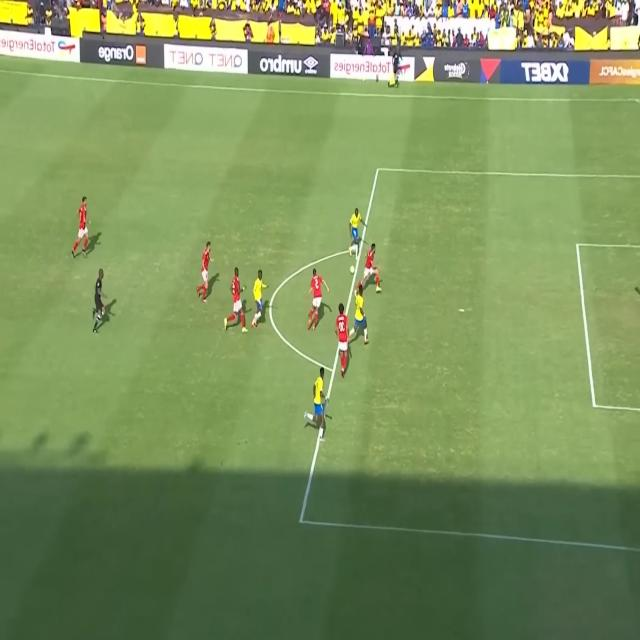Ball: (348, 261, 357, 275)
Player: (302, 367, 328, 442), (223, 265, 246, 332), (306, 268, 330, 331), (354, 245, 379, 296), (347, 284, 368, 344), (71, 195, 90, 260), (197, 240, 216, 303), (250, 269, 269, 330), (347, 207, 366, 258), (336, 302, 348, 375)
Ref: (90, 266, 109, 334), (388, 46, 402, 90)
